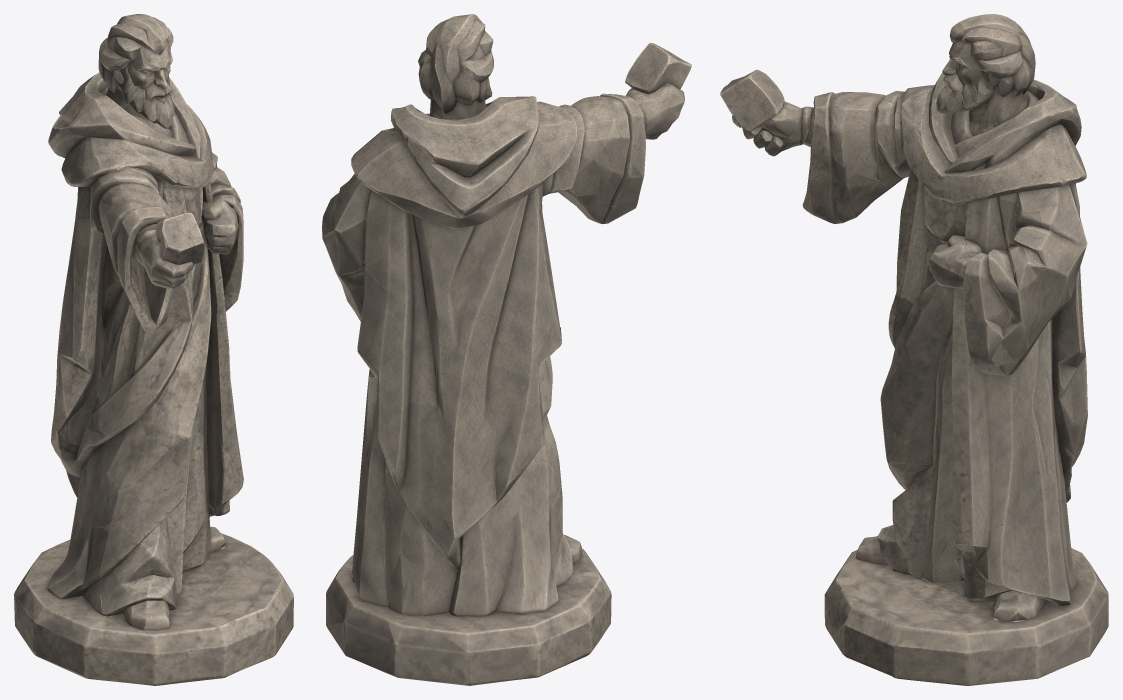
Rendered from statue_rotating.glb.
3 renders of one model, left to right at view 1: azimuth 30°, elevation 25°; view 2: azimuth 150°, elevation 25°; view 3: azimuth 270°, elevation 25°, orthographic.
Visible parts, largest first — view 1: output_unwrapped; view 2: output_unwrapped; view 3: output_unwrapped.
Boxes of the visible parts, x1,y1,x2,y2 form: output_unwrapped: (14, 14, 293, 685); output_unwrapped: (322, 14, 691, 685); output_unwrapped: (720, 14, 1108, 685).
Bounding box in the file's own units: 0.7892 × 1.9 × 1.1.
Materials: 1 (1 with a texture image).
